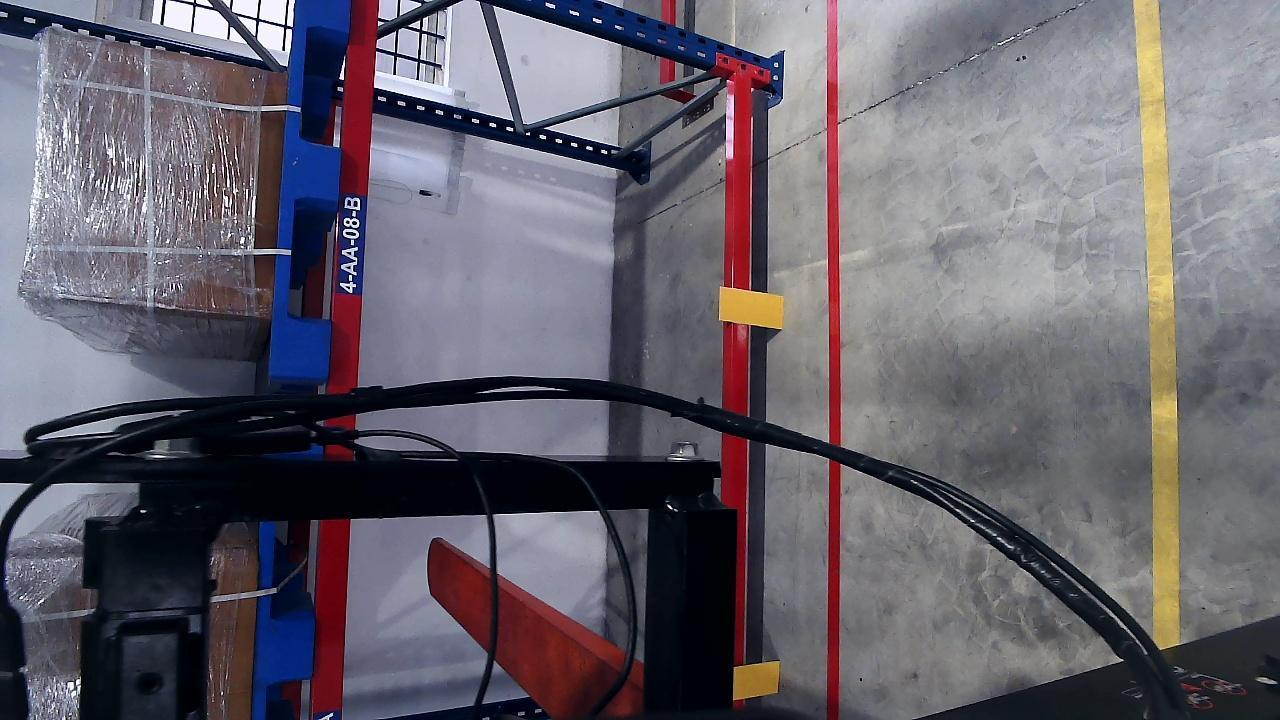red_line: (822, 10, 844, 715)
yellow_line: (1135, 0, 1182, 645)
